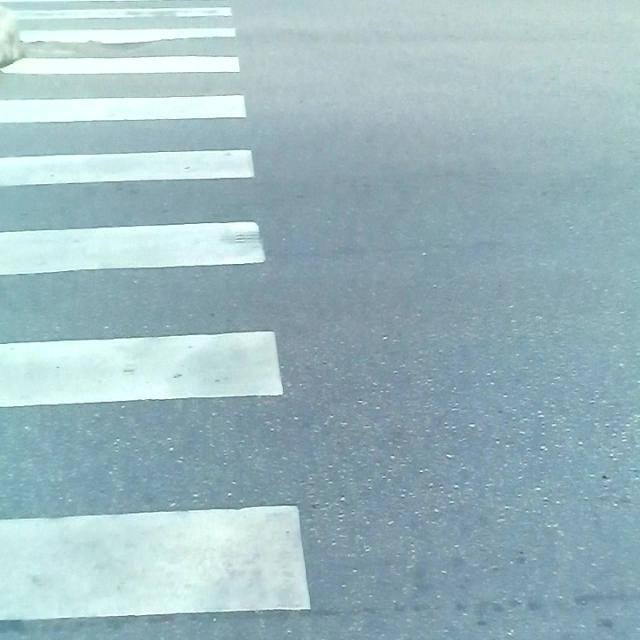crosswalk: (0, 0, 333, 640)
